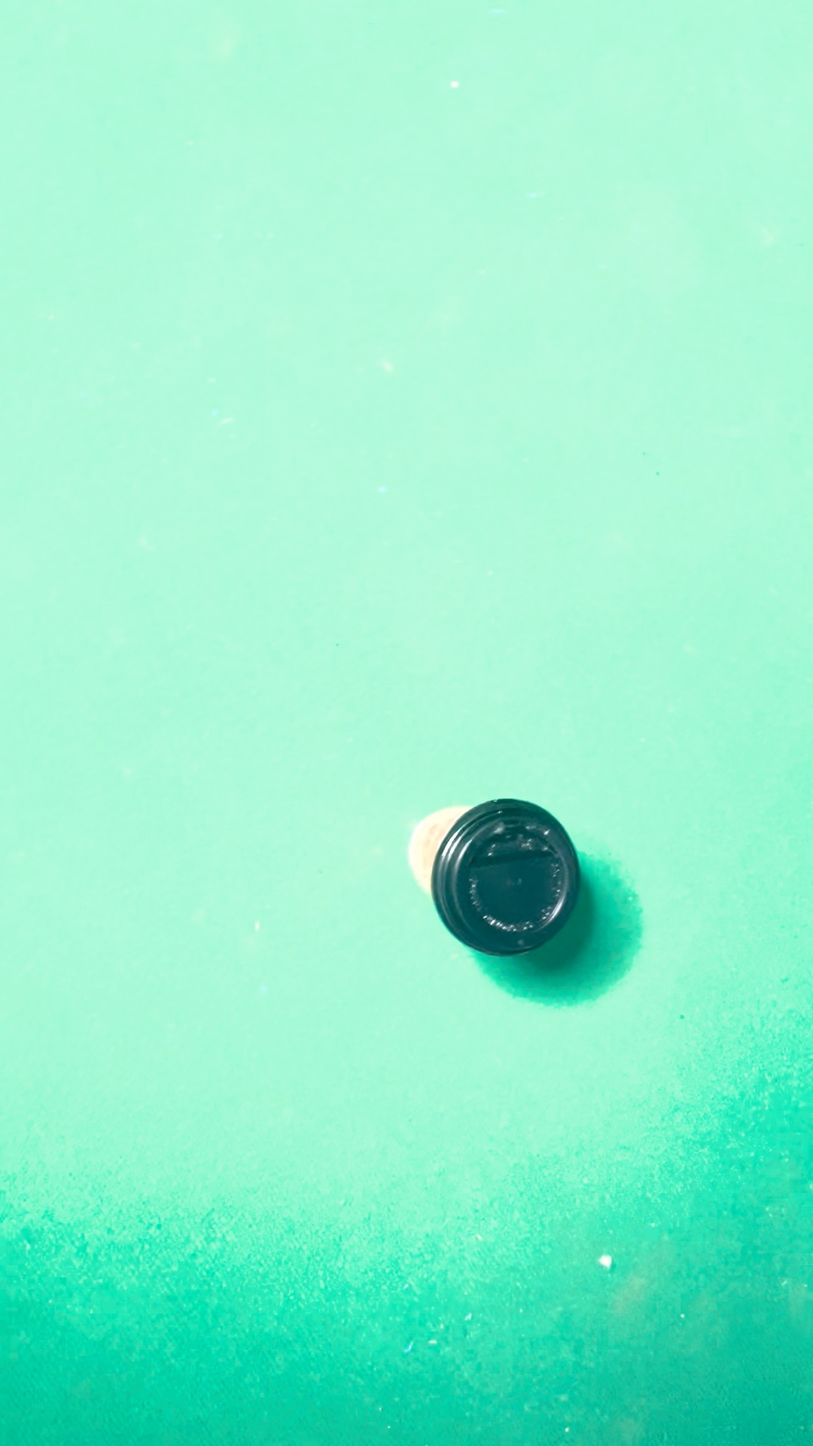cup: (405, 393, 491, 808)
